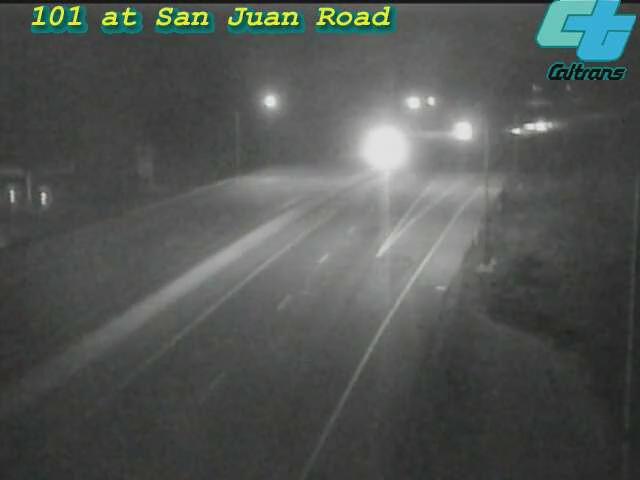vehicle: (352, 123, 402, 173), (432, 106, 482, 156), (523, 97, 573, 147), (504, 100, 554, 150), (493, 105, 543, 155)
